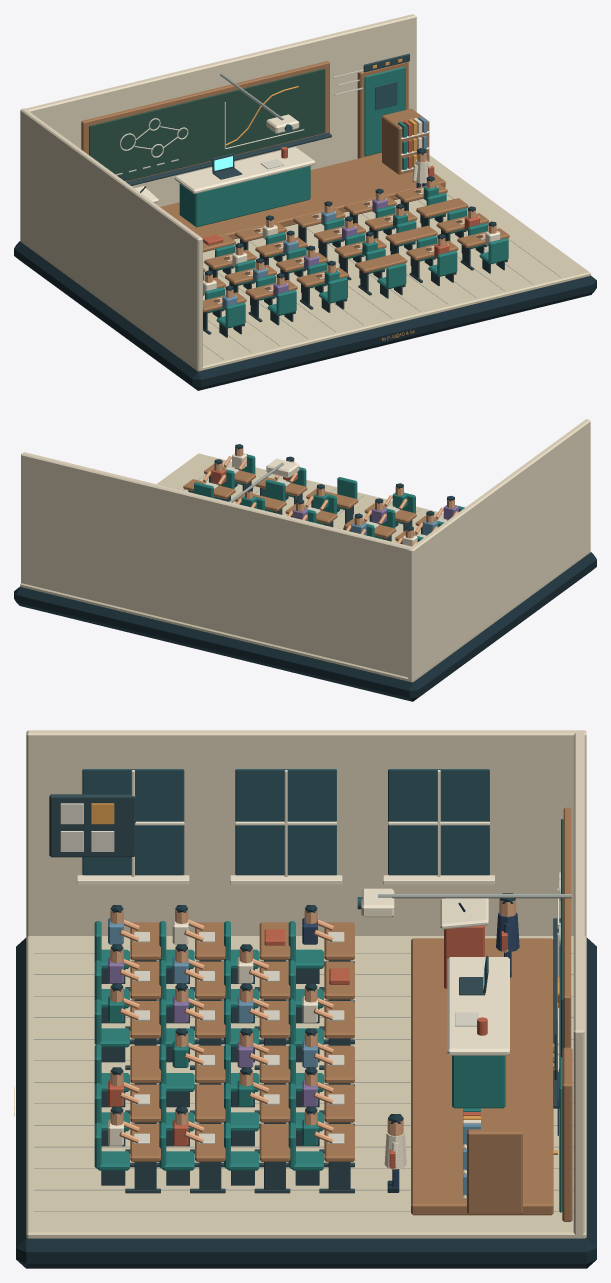
The model's file is classroom.glb.
3 renders of one model, top to bottom at view 1: azimuth 30°, elevation 25°; view 2: azimuth 150°, elevation 25°; view 3: azimuth 270°, elevation 25°, orthographic. The views are drawn at different scales.
Visible parts, largest first — view 1: classroom_room, classroom_teaching, classroom_students, classroom_department, classroom_teacher; view 2: classroom_room, classroom_students, classroom_teaching; view 3: classroom_room, classroom_students, classroom_teaching, classroom_department, classroom_teacher.
Part boxes in pixels (box(x1,y1,x2,y2)): classroom_room: box(14, 14, 596, 390); classroom_teaching: box(81, 61, 445, 239); classroom_students: box(202, 176, 509, 337); classroom_department: box(357, 53, 429, 174); classroom_teacher: box(118, 148, 434, 187); classroom_room: box(14, 419, 596, 701); classroom_students: box(178, 444, 464, 546); classroom_teaching: box(229, 458, 299, 502); classroom_room: box(16, 730, 596, 1268); classroom_students: box(94, 905, 354, 1193); classroom_teaching: box(357, 807, 571, 1215); classroom_department: box(49, 794, 572, 1221); classroom_teacher: box(384, 893, 519, 1192).
Bounding box in the file's own units: 14.4 × 5.15 × 11.44.
